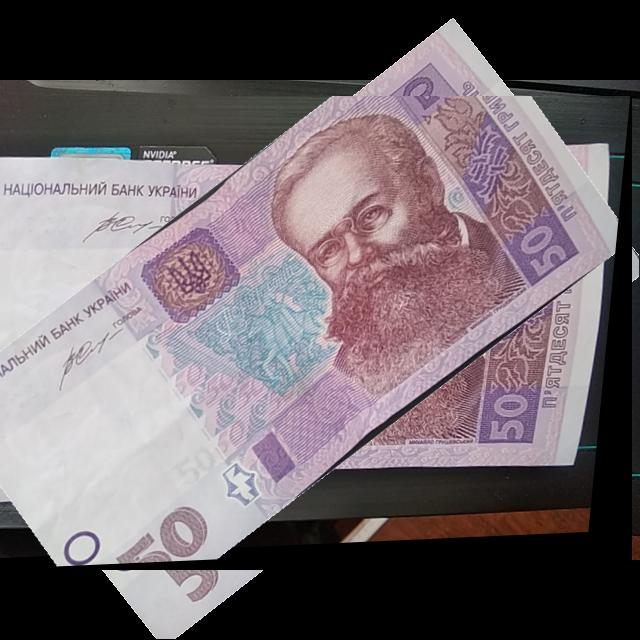50uah: (0, 96, 633, 571)
